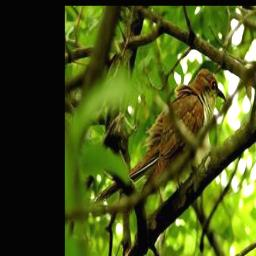Cuckoo: (93, 65, 227, 207)
